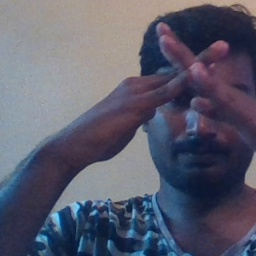W: (124, 14, 255, 141)
